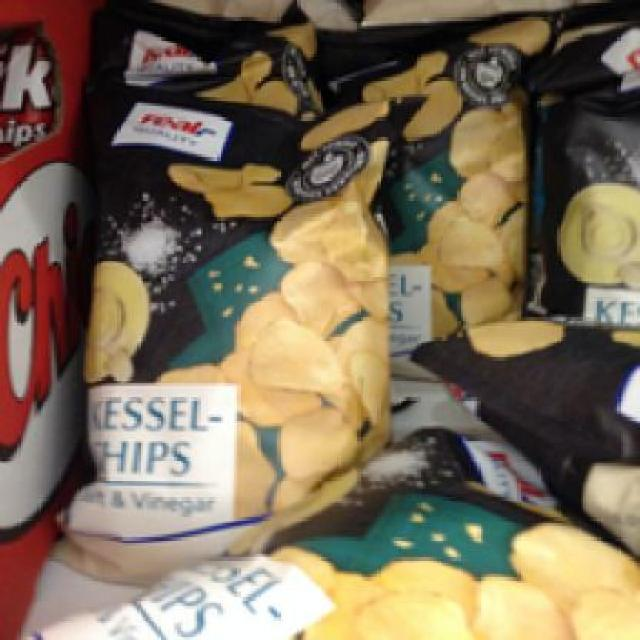Chips: (62, 92, 392, 578)
